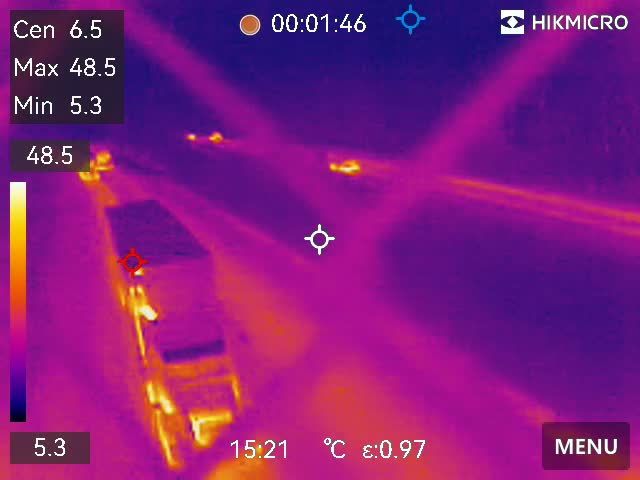heavyTruck: (100, 205, 261, 461)
